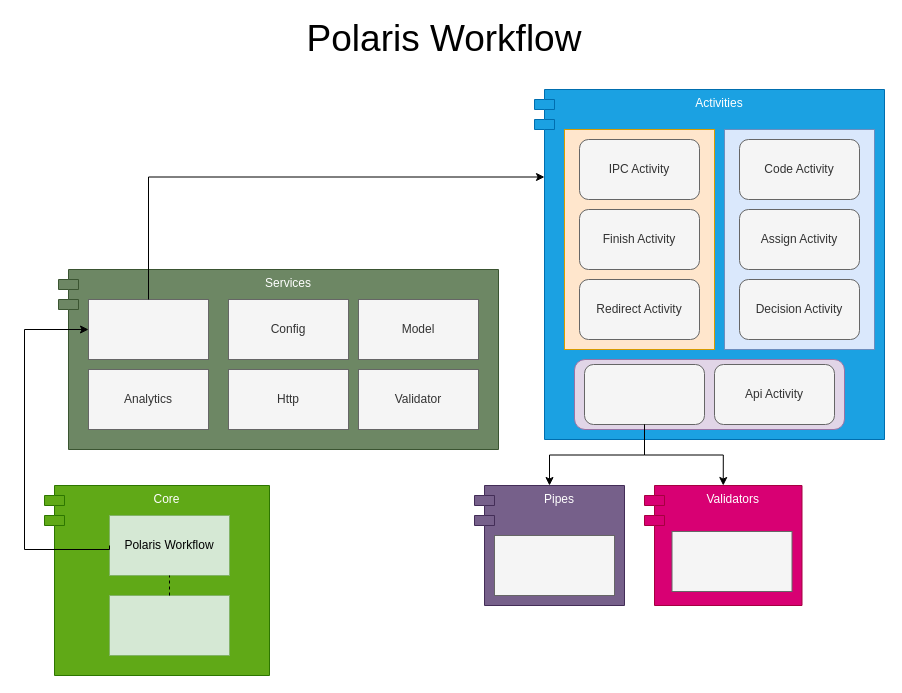
The diagram is 902 pixels wide and 693 high, and some of its shapes have lost their labels. The centre of each missing label's shape, as x and y in pixels:
Currency Formater: (x=554, y=565)
Page Activity: (x=644, y=394)
Polaris Analytics: (x=169, y=625)
Required: (x=731, y=561)
Workflow: (x=148, y=329)
